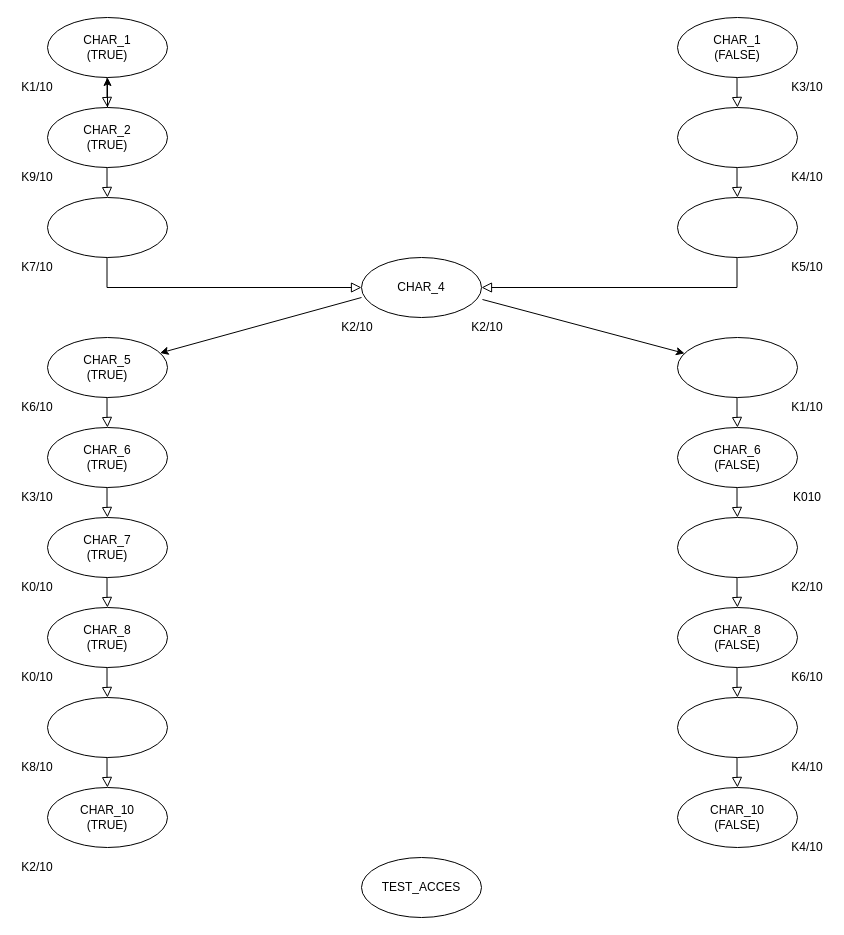
The diagram is 844 pixels wide and 935 high, and some of its shapes have lost their labels. Here are the shapes that lost their labels. From the top down, the centre of each, then its label:
At (737,137): "CHAR_2 (FALSE )".
At (107,227): "CHAR_3 (TRUE)".
At (737,227): "CHAR_3 (FALSE )".
At (737,367): "CHAR_5 (FALSE)".
At (737,547): "CHAR_7 (FALSE )".
At (107,727): "CHAR_9 (TRUE)".
At (737,727): "CHAR_9 (FALSE )".
